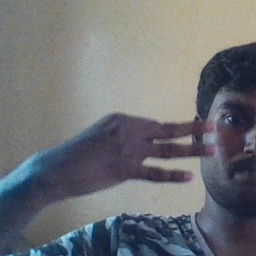K: (49, 110, 221, 192)
